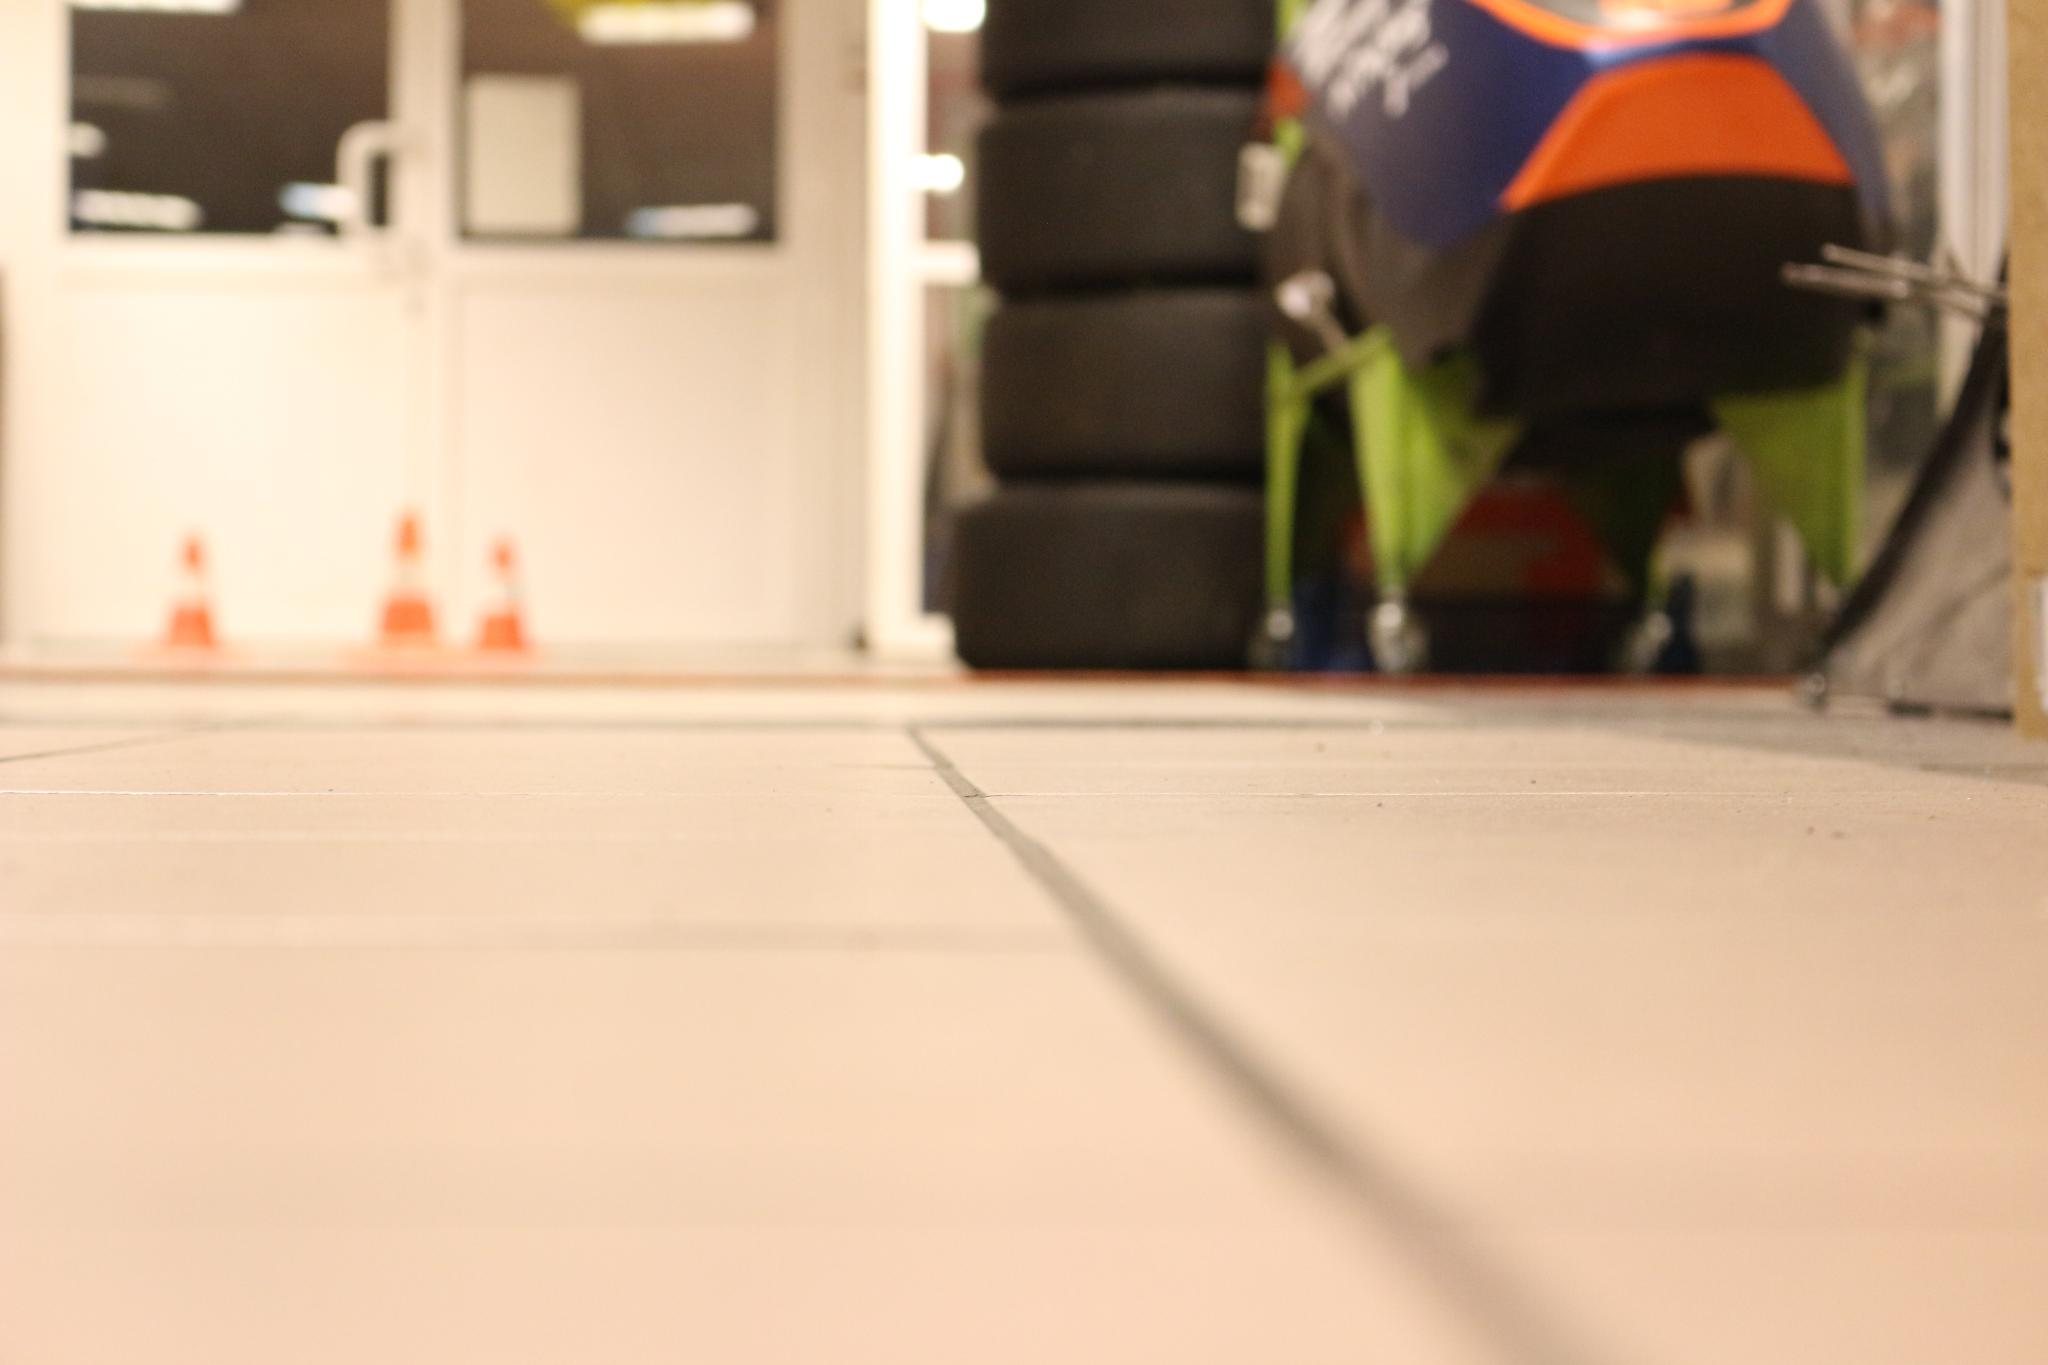Orange_Cone: (362, 507, 446, 660), (463, 529, 550, 663), (154, 515, 228, 651)
